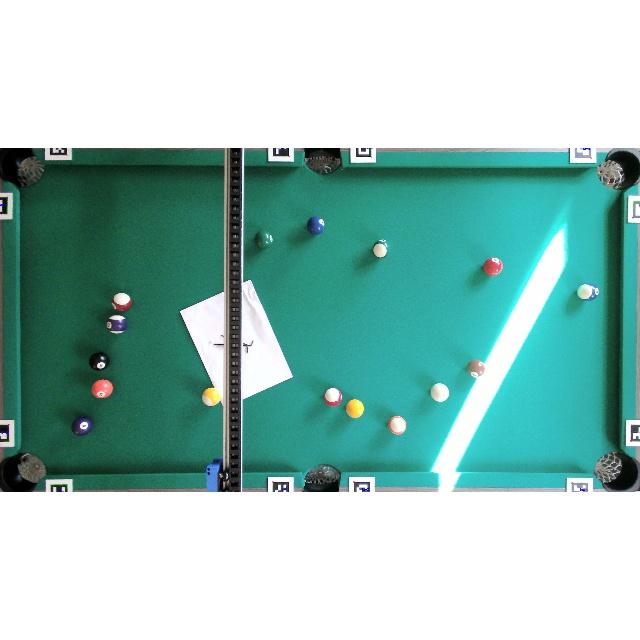cue ball: (430, 383, 449, 402)
other: (72, 416, 94, 436), (92, 379, 113, 399), (89, 352, 110, 372), (112, 292, 132, 312), (483, 257, 503, 276), (324, 387, 343, 407), (107, 315, 127, 334), (255, 230, 274, 249), (202, 388, 221, 407), (307, 215, 325, 235), (466, 360, 486, 378), (346, 399, 364, 418), (388, 416, 407, 434), (578, 283, 598, 300), (372, 240, 388, 258)
